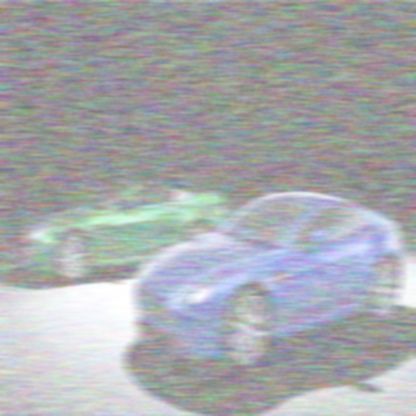Vehicle: (125, 180, 412, 388)
